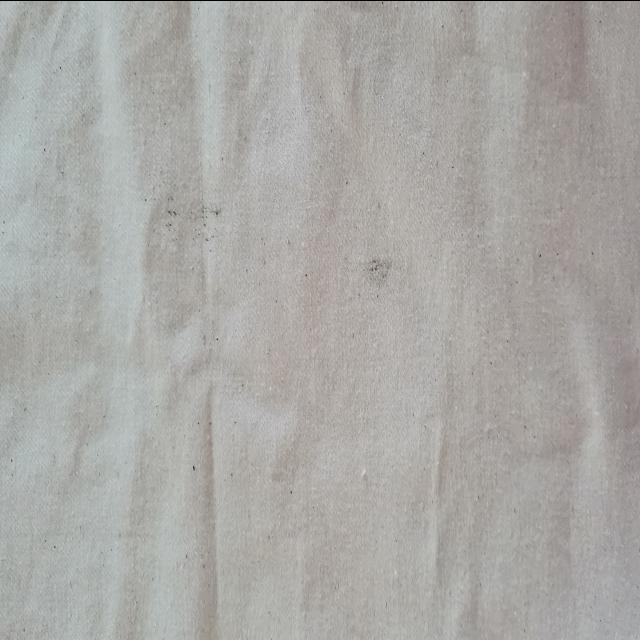taaaches: (354, 230, 409, 332)
